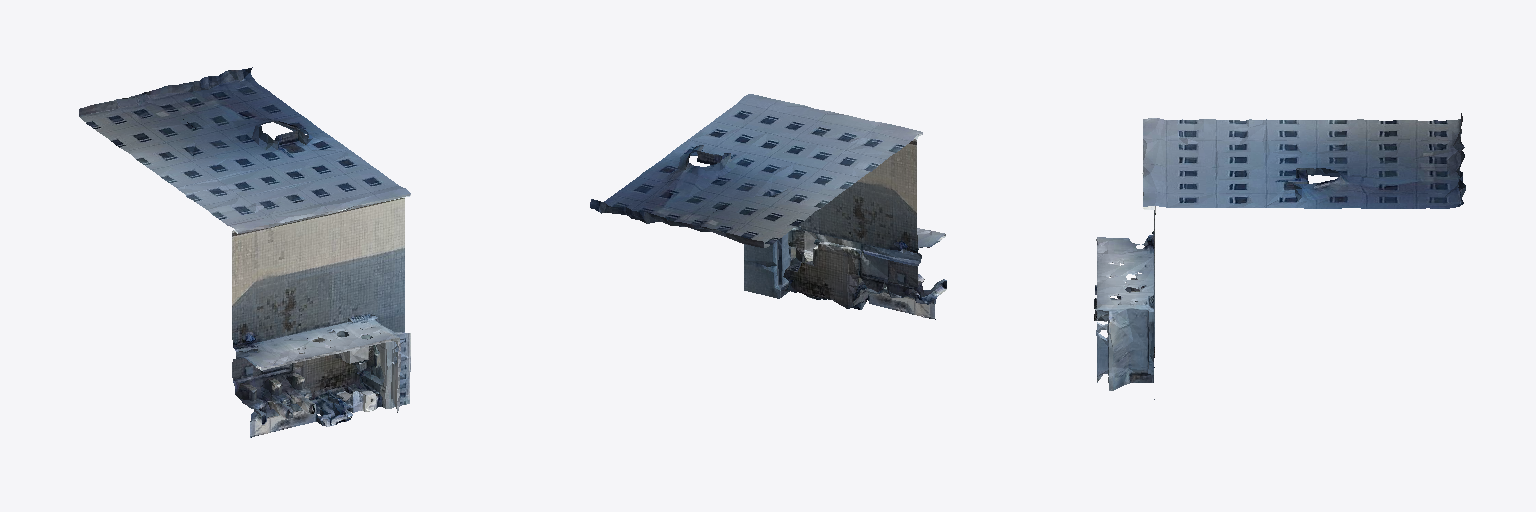
3 views of the same model, side by side, from view 1: azimuth 30°, elevation 25°; view 2: azimuth 150°, elevation 25°; view 3: azimuth 270°, elevation 25° (orthographic).
Parts seen in each view (by area): view 1: obj_0; view 2: obj_0; view 3: obj_0.
Part boxes in pixels (bbox=[...]): obj_0: bbox=[79, 67, 410, 437]; obj_0: bbox=[590, 94, 946, 319]; obj_0: bbox=[1094, 113, 1465, 399].
Size of the model in its own units: 20.08 by 22.53 by 37.3.
Materials: 1 (1 with a texture image).